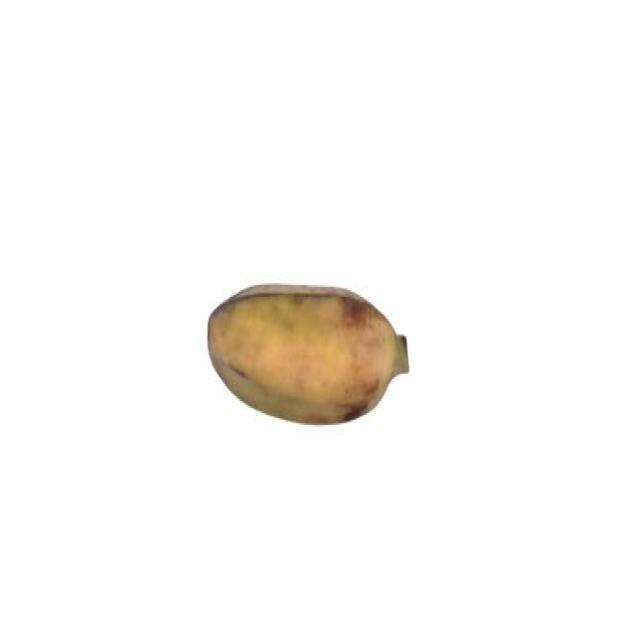banana: (202, 278, 412, 430)
